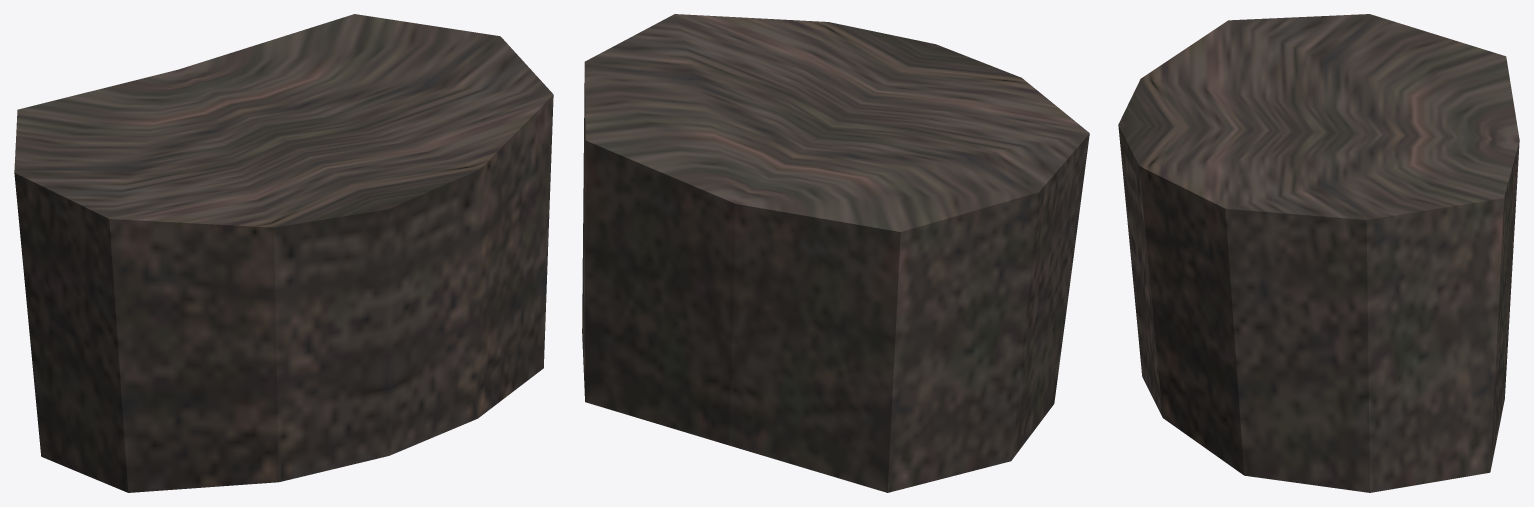
Rendered from trompa3.obj.
3 views of the same model, side by side, from view 1: azimuth 30°, elevation 25°; view 2: azimuth 150°, elevation 25°; view 3: azimuth 270°, elevation 25° (orthographic). The views are drawn at different scales.
Visible parts, largest first — view 1: pasted__polySurface5 pasted__polySurface4 pasted__polySurface2 p; view 2: pasted__polySurface5 pasted__polySurface4 pasted__polySurface2 p; view 3: pasted__polySurface5 pasted__polySurface4 pasted__polySurface2 p.
Part boxes in pixels (x1,y1,x2,y2): pasted__polySurface5 pasted__polySurface4 pasted__polySurface2 p: (14,14,553,492); pasted__polySurface5 pasted__polySurface4 pasted__polySurface2 p: (582,14,1089,492); pasted__polySurface5 pasted__polySurface4 pasted__polySurface2 p: (1118,14,1519,492).
Size of the model in its own units: 1.65 by 1.03 by 1.24.
Materials: 1 (1 with a texture image).
